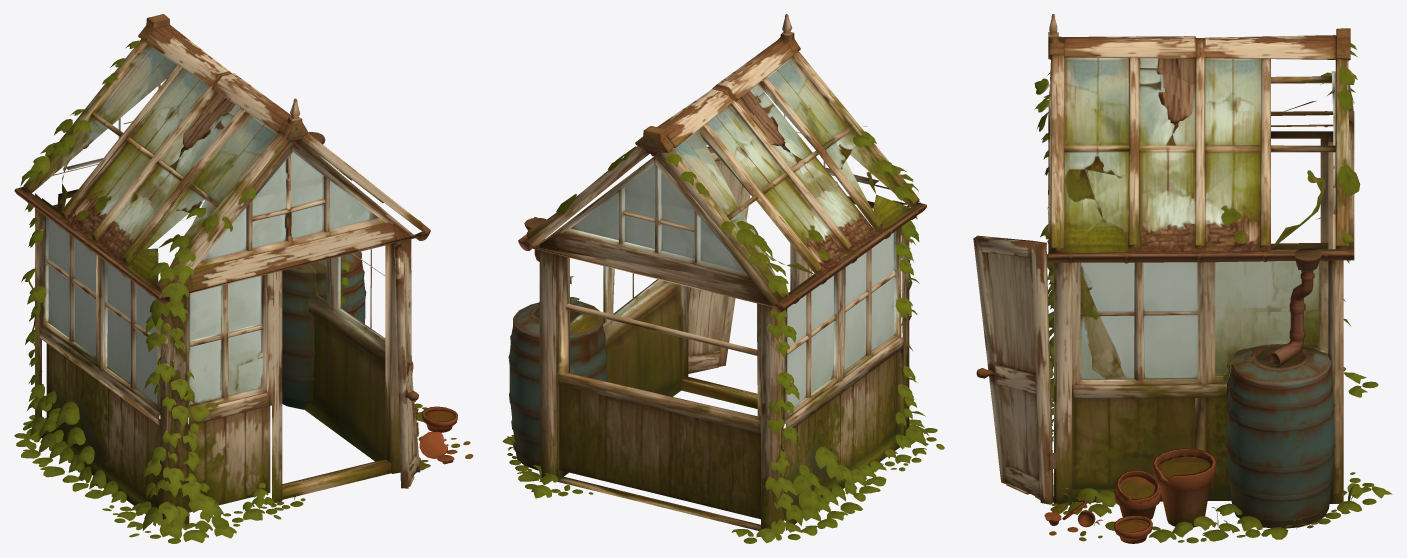
Rendered from greenhouse_ruined.glb.
3 views of the same model, side by side, from view 1: azimuth 30°, elevation 25°; view 2: azimuth 150°, elevation 25°; view 3: azimuth 270°, elevation 25° (orthographic). The views are drawn at different scales.
Parts seen in each view (by area): view 1: dfae6655_58dd_490b_b126_6c2f92c18401; view 2: dfae6655_58dd_490b_b126_6c2f92c18401; view 3: dfae6655_58dd_490b_b126_6c2f92c18401.
Part boxes in pixels (x1,y1,x2,y2): dfae6655_58dd_490b_b126_6c2f92c18401: [14, 14, 473, 543]; dfae6655_58dd_490b_b126_6c2f92c18401: [502, 14, 944, 543]; dfae6655_58dd_490b_b126_6c2f92c18401: [973, 14, 1392, 543].
Bounding box in the file's own units: 0.9429 × 0.9995 × 0.8833.
1 material, 1 textured.
